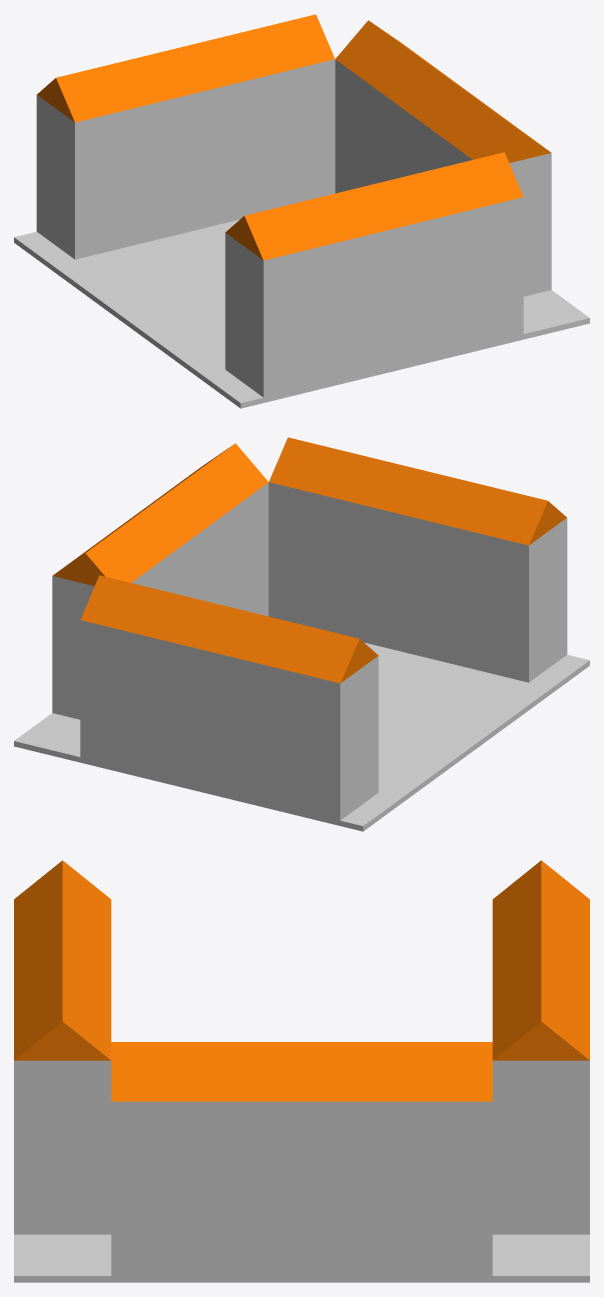
Rendered from Ilusao.obj.
3 renders of one model, top to bottom at view 1: azimuth 30°, elevation 25°; view 2: azimuth 150°, elevation 25°; view 3: azimuth 270°, elevation 25°, orthographic. The views are drawn at different scales.
Visible parts, largest first — view 1: Mesh17 Group5 Model, Mesh14 Component4 Group4 Model, Mesh2 Component1 Group1 Model, Mesh10 Component3 Group3 Model, Mesh6 Component2 Group2 Model, Mesh23 Component6 Group7 Model, Mesh19 Component5 Group6 Model, Mesh15 Component_1_7 Group4 Model, Mesh16 Component_1_8 Group4 Model, Mesh3 Component_1_1 Group1 Model, Mesh4 Component_1_2 Group1 Model, Mesh8 Component_1_4 Group2 Model (+7 smaller); view 2: Mesh17 Group5 Model, Mesh2 Component1 Group1 Model, Mesh14 Component4 Group4 Model, Mesh6 Component2 Group2 Model, Mesh10 Component3 Group3 Model, Mesh19 Component5 Group6 Model, Mesh23 Component6 Group7 Model, Mesh3 Component_1_1 Group1 Model, Mesh4 Component_1_2 Group1 Model, Mesh15 Component_1_7 Group4 Model, Mesh16 Component_1_8 Group4 Model, Mesh7 Component_1_3 Group2 Model (+7 smaller); view 3: Mesh19 Component5 Group6 Model, Mesh23 Component6 Group7 Model, Mesh6 Component2 Group2 Model, Mesh10 Component3 Group3 Model, Mesh17 Group5 Model, Mesh20 Component_1_9 Group6 Model, Mesh21 Component_1_10 Group6 Model, Mesh24 Component_1_11 Group7 Model, Mesh25 Component_1_12 Group7 Model, Mesh2 Component1 Group1 Model, Mesh14 Component4 Group4 Model, Mesh7 Component_1_3 Group2 Model (+3 smaller).
Boxes of the visible parts, x1,y1,x2,y2 form: Mesh17 Group5 Model: [14, 219, 589, 408]; Mesh14 Component4 Group4 Model: [225, 184, 393, 306]; Mesh2 Component1 Group1 Model: [36, 46, 204, 168]; Mesh10 Component3 Group3 Model: [374, 152, 523, 274]; Mesh6 Component2 Group2 Model: [186, 14, 335, 136]; Mesh23 Component6 Group7 Model: [410, 75, 551, 205]; Mesh19 Component5 Group6 Model: [335, 20, 471, 159]; Mesh15 Component_1_7 Group4 Model: [225, 320, 393, 397]; Mesh16 Component_1_8 Group4 Model: [225, 274, 393, 351]; Mesh3 Component_1_1 Group1 Model: [36, 182, 204, 259]; Mesh4 Component_1_2 Group1 Model: [36, 136, 204, 213]; Mesh8 Component_1_4 Group2 Model: [205, 105, 335, 182]; Mesh17 Group5 Model: [14, 642, 589, 831]; Mesh2 Component1 Group1 Model: [210, 607, 378, 729]; Mesh14 Component4 Group4 Model: [399, 469, 567, 591]; Mesh6 Component2 Group2 Model: [80, 575, 229, 697]; Mesh10 Component3 Group3 Model: [268, 437, 417, 559]; Mesh19 Component5 Group6 Model: [52, 498, 193, 628]; Mesh23 Component6 Group7 Model: [132, 443, 268, 582]; Mesh3 Component_1_1 Group1 Model: [210, 743, 378, 820]; Mesh4 Component_1_2 Group1 Model: [210, 697, 378, 774]; Mesh15 Component_1_7 Group4 Model: [399, 605, 567, 682]; Mesh16 Component_1_8 Group4 Model: [399, 559, 567, 636]; Mesh7 Component_1_3 Group2 Model: [80, 711, 210, 788]; Mesh19 Component5 Group6 Model: [302, 1042, 492, 1159]; Mesh23 Component6 Group7 Model: [111, 1042, 301, 1159]; Mesh6 Component2 Group2 Model: [492, 941, 589, 1118]; Mesh10 Component3 Group3 Model: [14, 941, 111, 1118]; Mesh17 Group5 Model: [14, 1234, 589, 1282]; Mesh20 Component_1_9 Group6 Model: [302, 1217, 492, 1275]; Mesh21 Component_1_10 Group6 Model: [302, 1159, 492, 1217]; Mesh24 Component_1_11 Group7 Model: [111, 1217, 301, 1275]; Mesh25 Component_1_12 Group7 Model: [111, 1159, 301, 1217]; Mesh2 Component1 Group1 Model: [492, 860, 589, 979]; Mesh14 Component4 Group4 Model: [14, 860, 111, 979]; Mesh7 Component_1_3 Group2 Model: [492, 1176, 589, 1234].
Bounding box in the file's own units: 12608 × 5981 × 14179.
